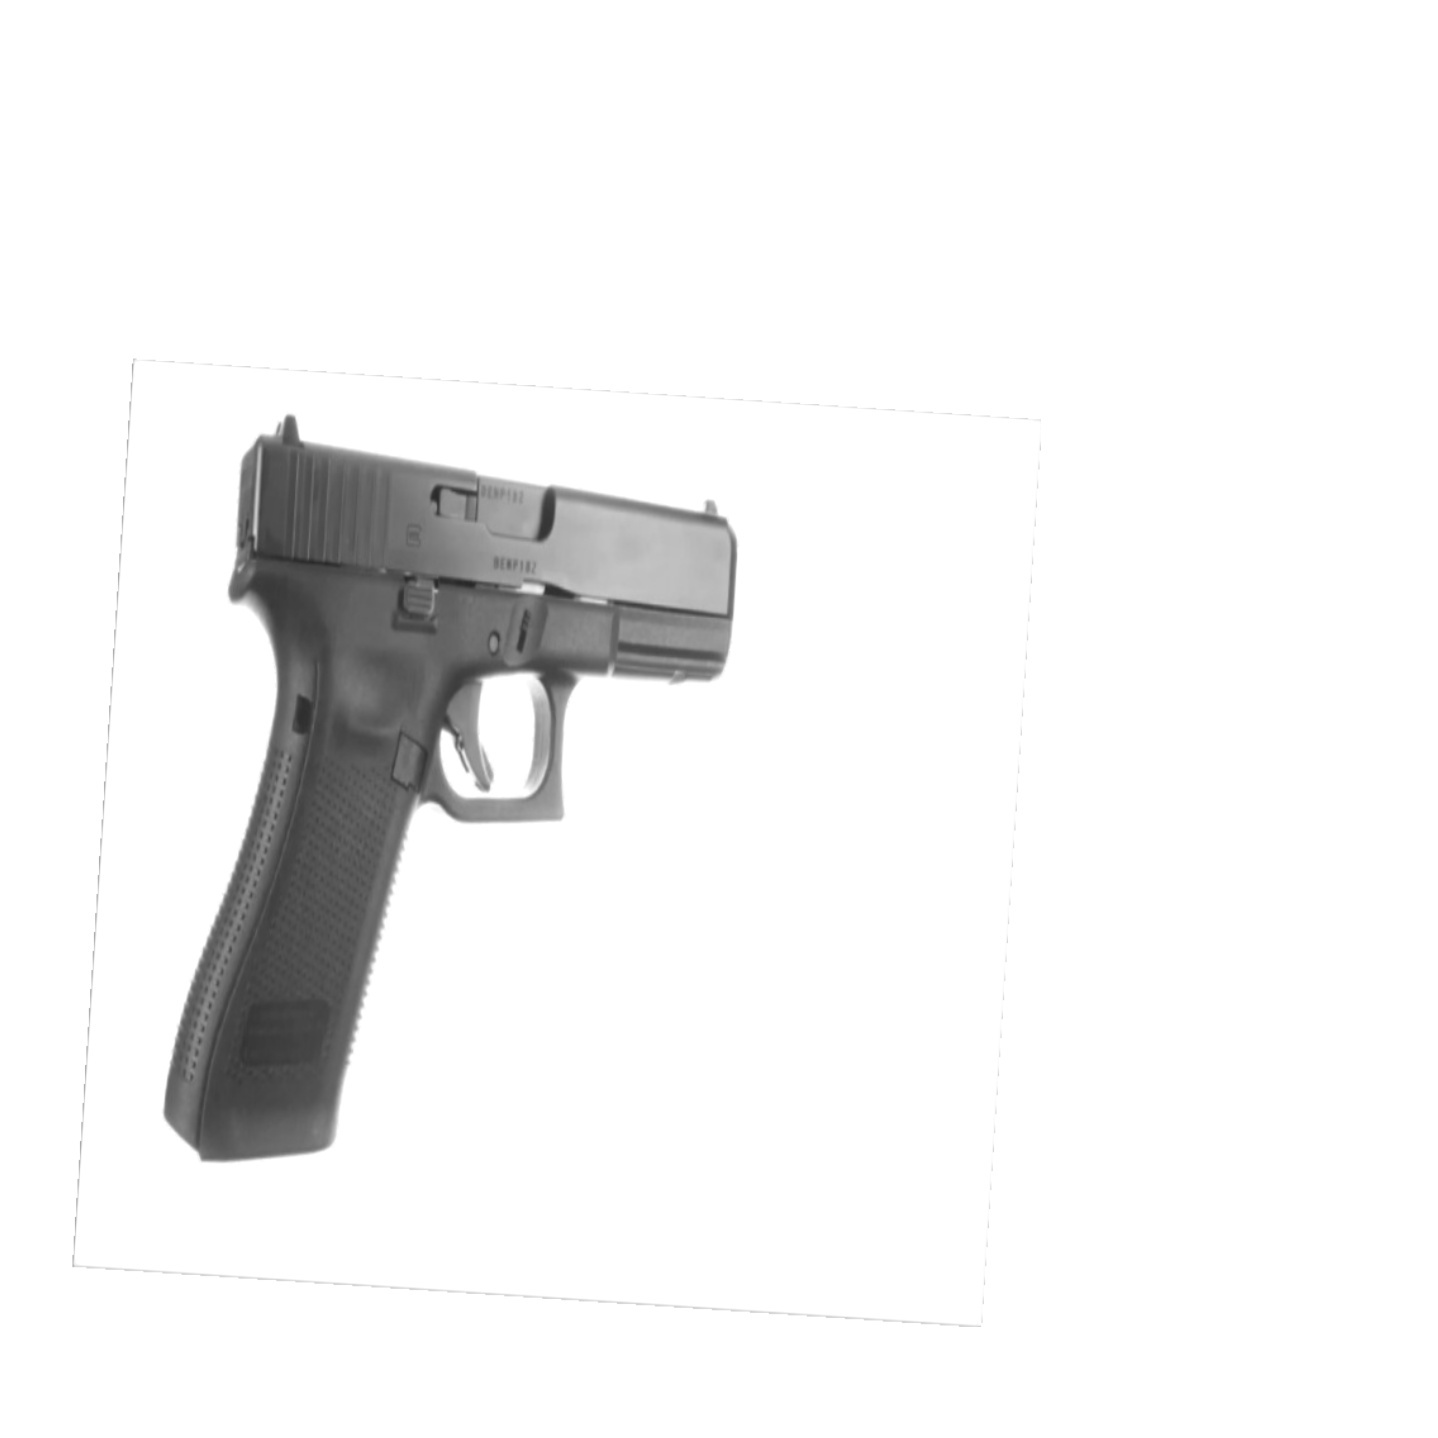gun: (155, 408, 752, 1175)
